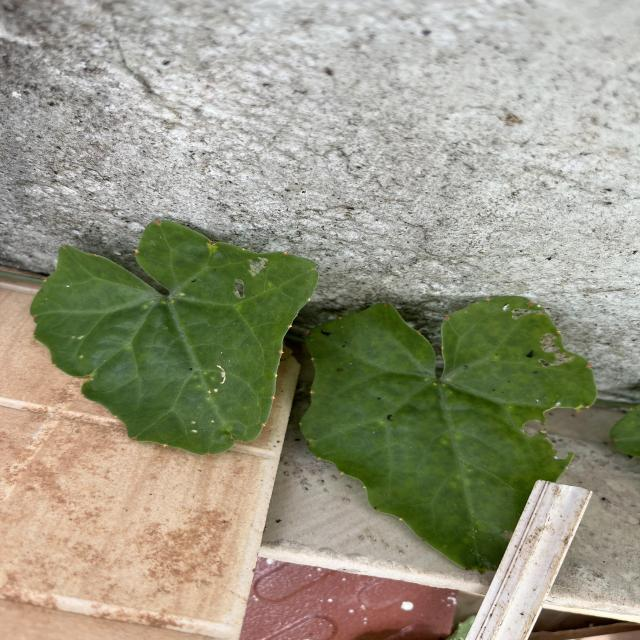Coccinia grandis: (28, 214, 323, 458)
